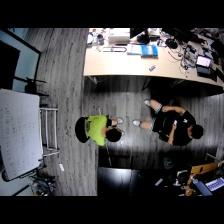normal: (135, 100, 205, 150), (82, 114, 130, 144)
